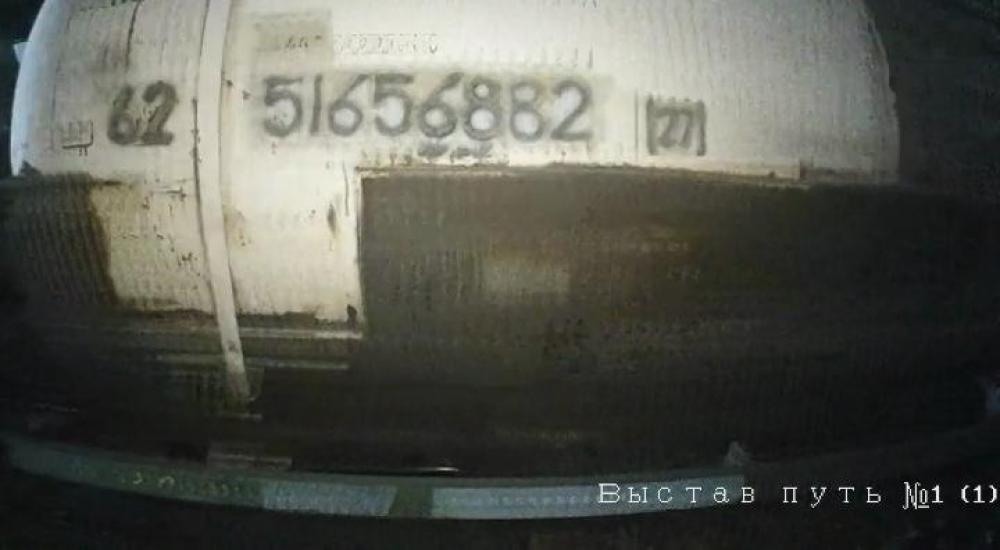Wagon-number: (259, 63, 596, 148)
